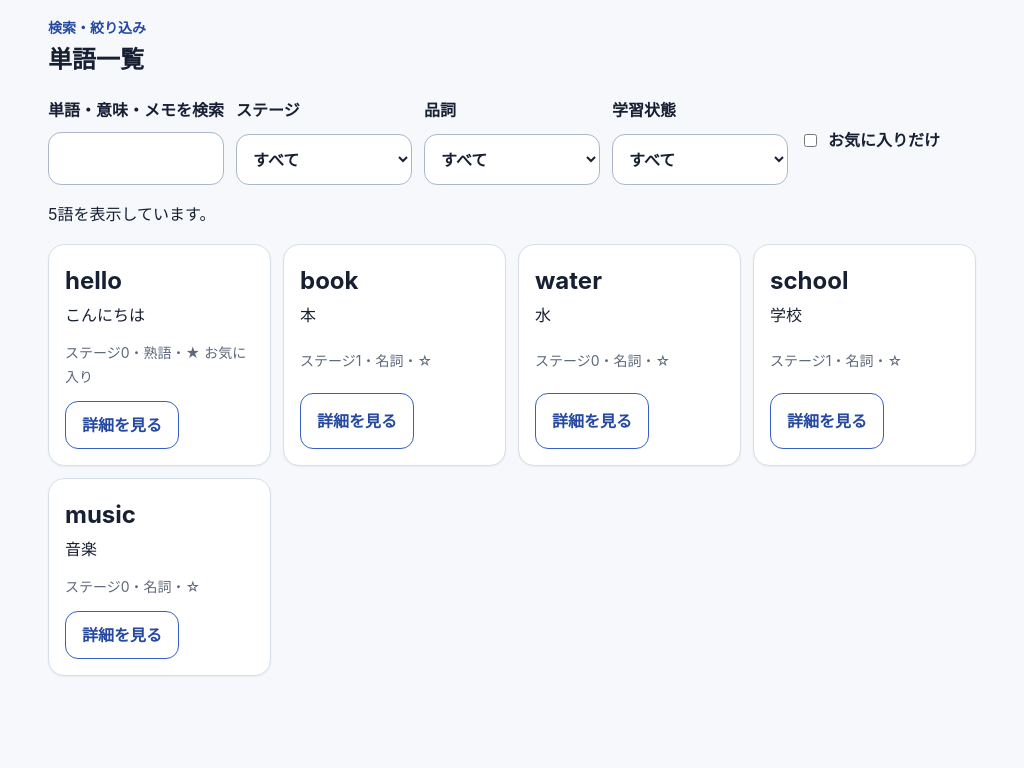
Scenario: 単語ページ › 一覧を検索・状態・お気に入りで絞り込む
The image size is (1024, 768).
Check: the heading "単語一覧" is shown, box x1=48 y1=40 x2=146 y2=81
In the search field labelled "単語・意味・メモを検索": (136, 158) x1=48 y1=132 x2=224 y2=185, type "朝のあいさつ"
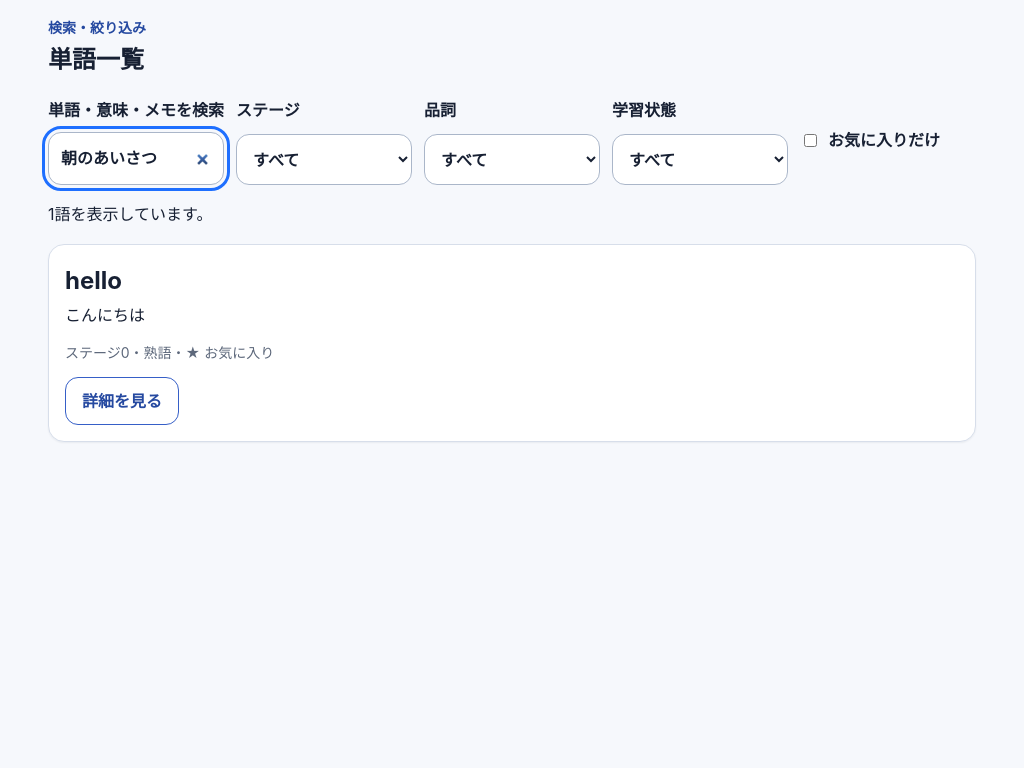
Check: the heading "hello" is shown, box x1=65 y1=266 x2=122 y2=295
Check: the heading "book" is gone
Clear the search field labelled "単語・意味・メモを検索": (136, 158) x1=48 y1=132 x2=224 y2=185
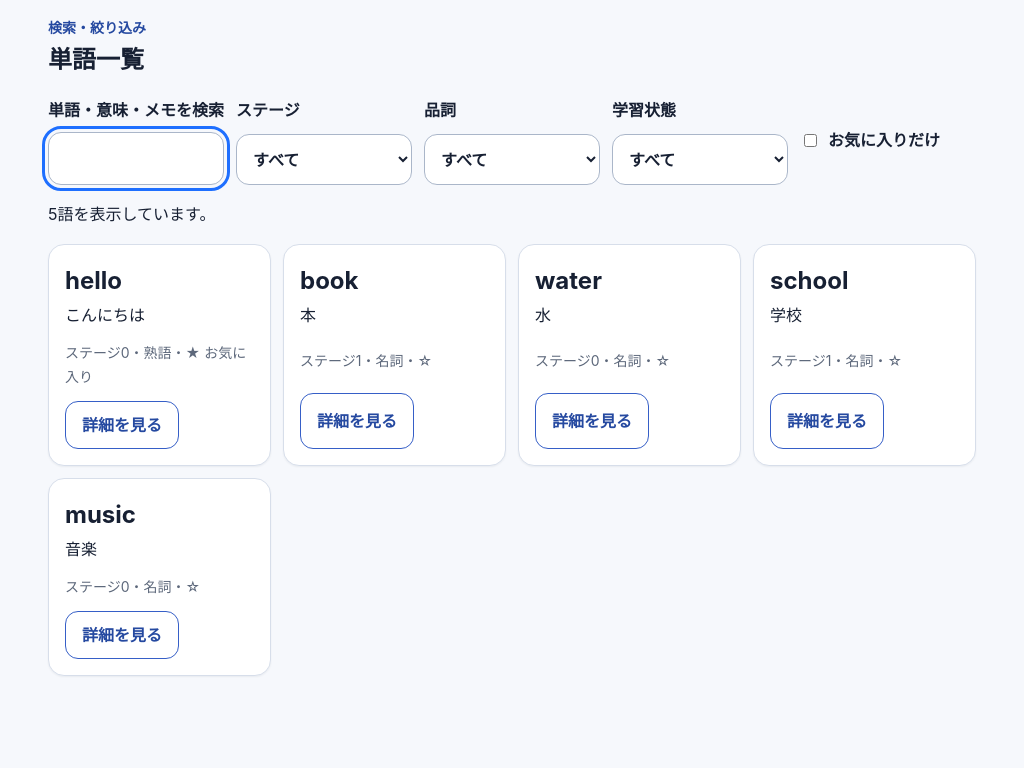
Click the checkbox labelled "お気に入りだけ": (810, 141) x1=804 y1=134 x2=817 y2=147
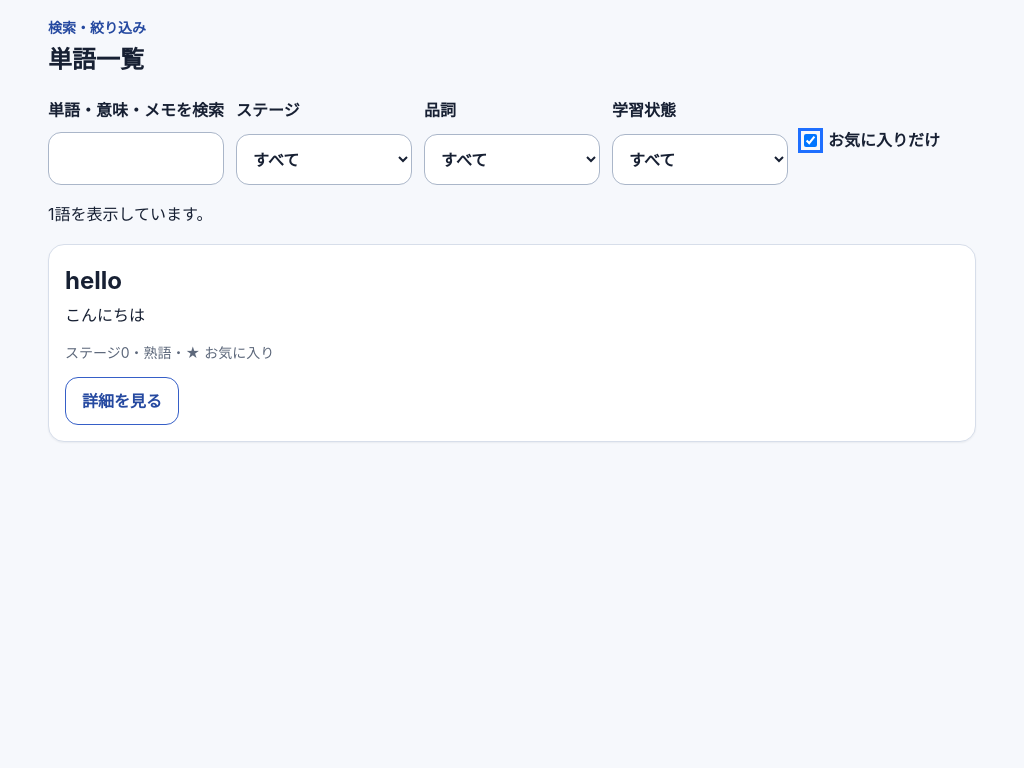
Check: the heading "hello" is shown, box x1=65 y1=266 x2=122 y2=295
Check: the heading "water" is gone
